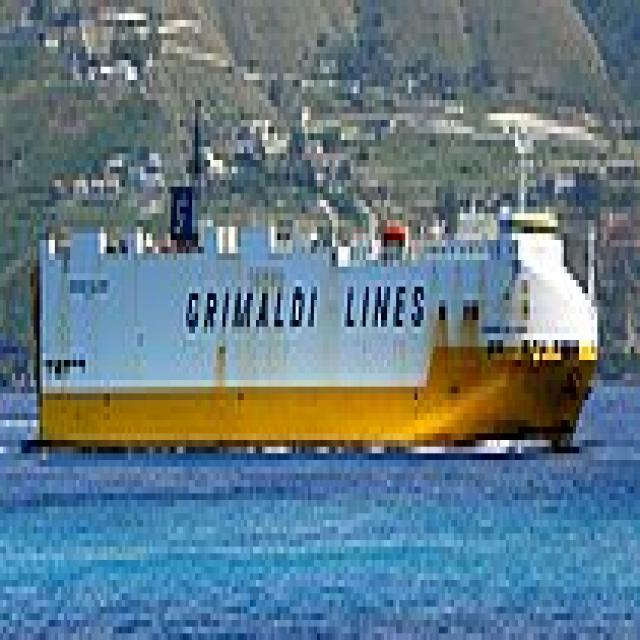Carrier: (28, 174, 600, 454)
